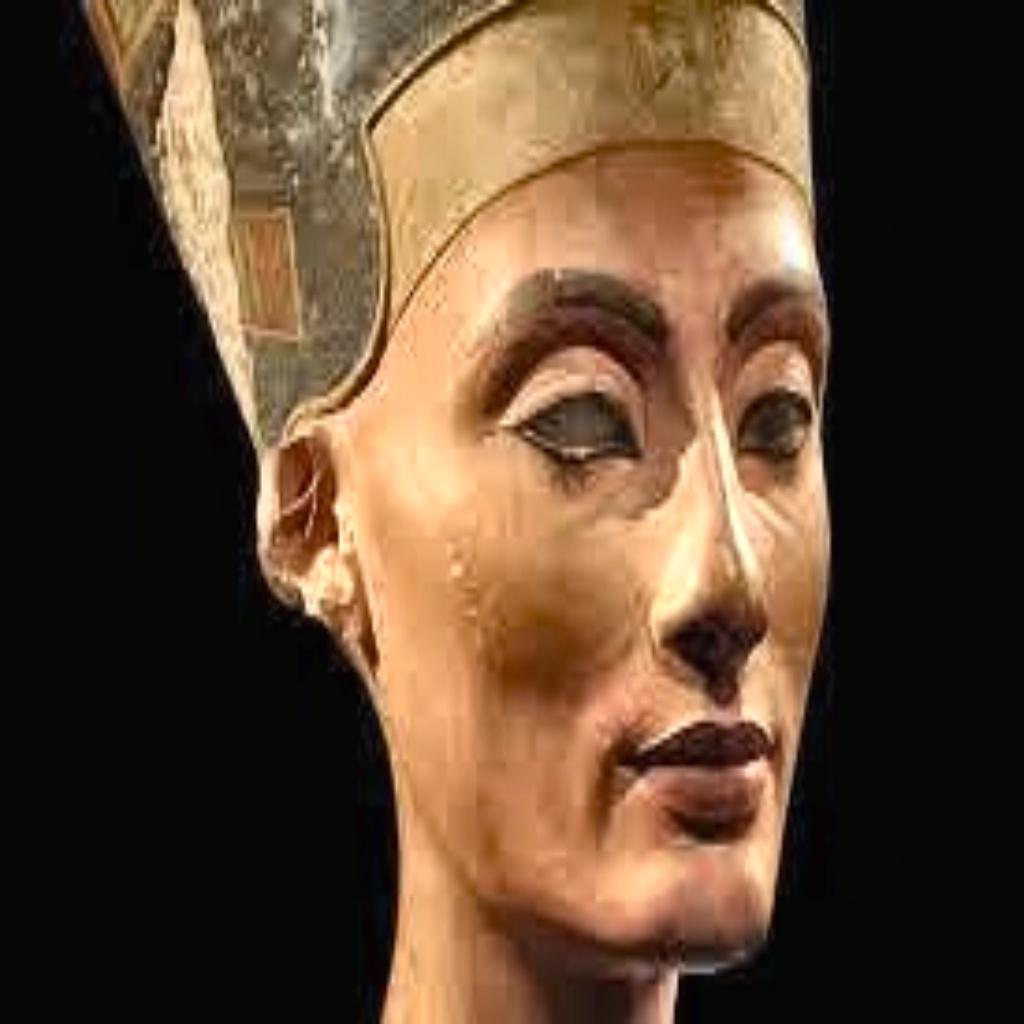Nefertiti: (79, 0, 839, 1024)
